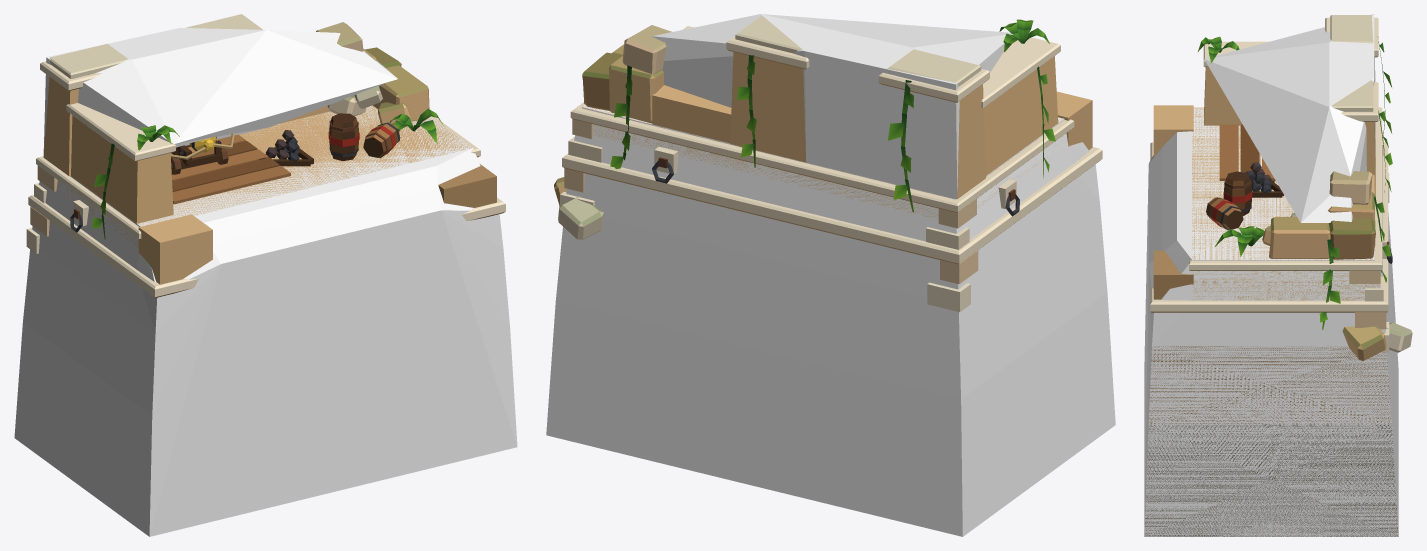
The model's file is ruined_sea_fort_cannon_bastion.glb.
3 renders of one model, left to right at view 1: azimuth 30°, elevation 25°; view 2: azimuth 150°, elevation 25°; view 3: azimuth 270°, elevation 25°, orthographic. The views are drawn at different scales.
Visible parts, largest first — view 1: col_bastion_deck, RuinedSeaFortCannonBastion, col_bastion_wall; view 2: col_bastion_deck, RuinedSeaFortCannonBastion, col_bastion_wall; view 3: col_bastion_deck, RuinedSeaFortCannonBastion, col_bastion_wall.
Part boxes in pixels (x1=…): col_bastion_deck: x1=14, y1=105, x2=517, y2=536; RuinedSeaFortCannonBastion: x1=26, y1=14, x2=505, y2=297; col_bastion_wall: x1=43, y1=28, x2=397, y2=153; col_bastion_deck: x1=546, y1=27, x2=1115, y2=536; RuinedSeaFortCannonBastion: x1=554, y1=15, x2=1102, y2=312; col_bastion_wall: x1=652, y1=14, x2=1012, y2=199; col_bastion_deck: x1=1144, y1=108, x2=1398, y2=536; RuinedSeaFortCannonBastion: x1=1144, y1=15, x2=1412, y2=536; col_bastion_wall: x1=1204, y1=14, x2=1375, y2=222.
Bounding box in the file's own units: 7.6 × 7.37 × 4.94.
